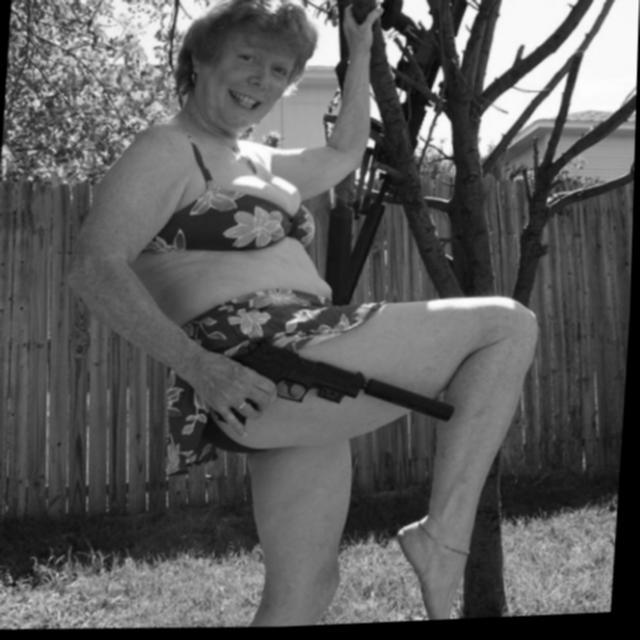weapon: (209, 330, 466, 445)
